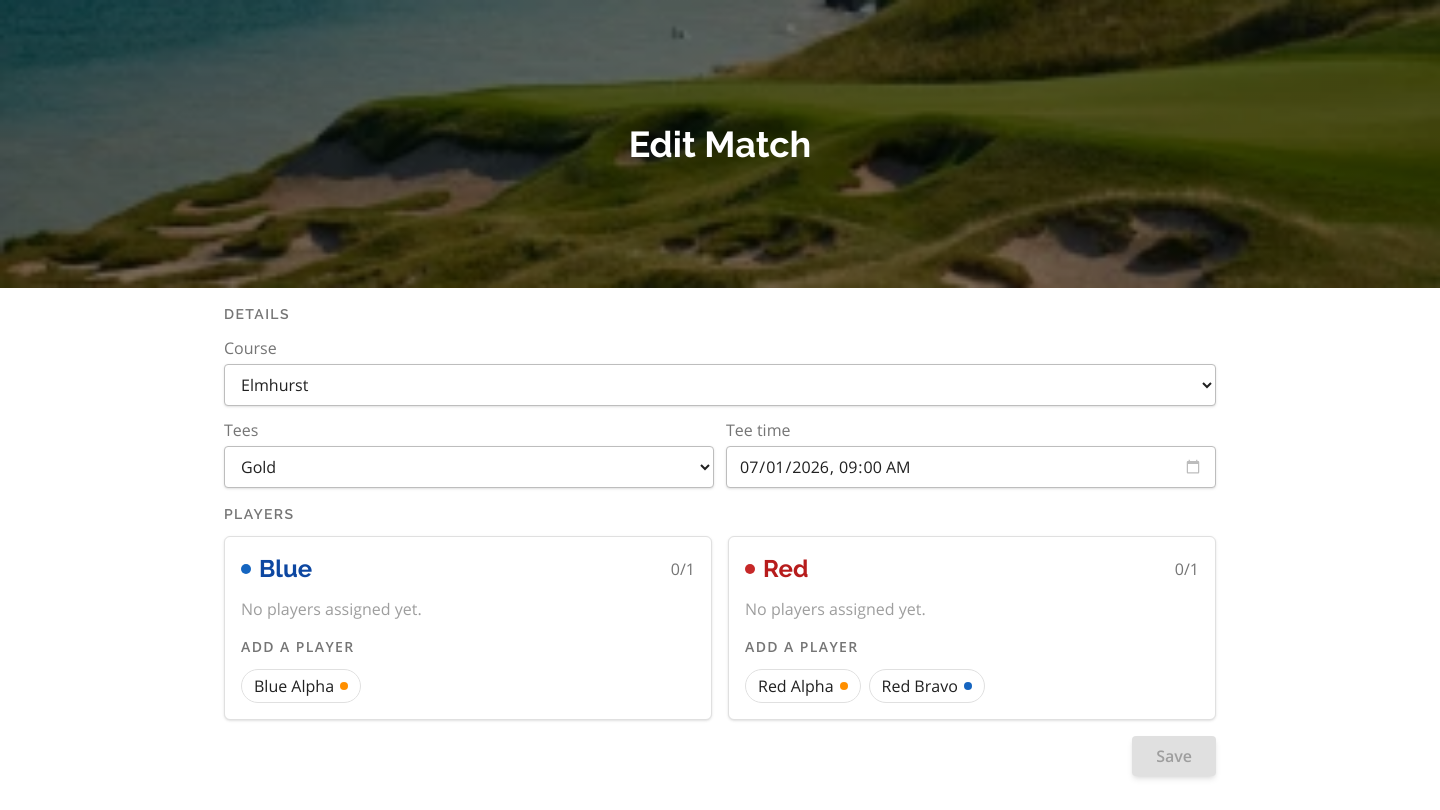
Test case: AdminMatchLineupView › has nothing to save until the tee set actually moves
Expected: the button "Save" is disabled, x1=1132 y1=736 x2=1216 y2=776
Step 1. Select "White" in the dropdown with id "tee" → (469, 467), box x1=224 y1=446 x2=714 y2=488
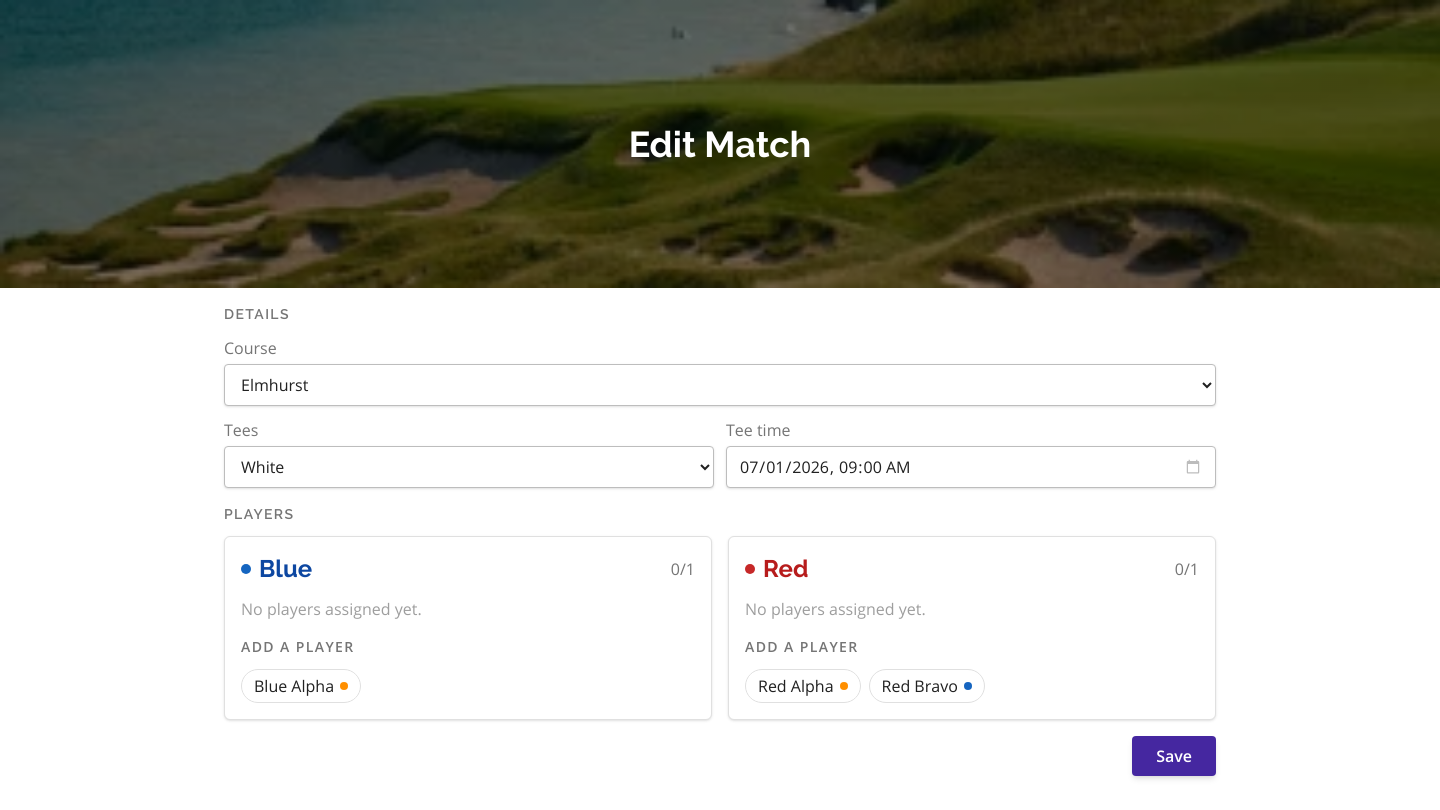
Expected: the button "Save" is enabled, x1=1132 y1=736 x2=1216 y2=776
